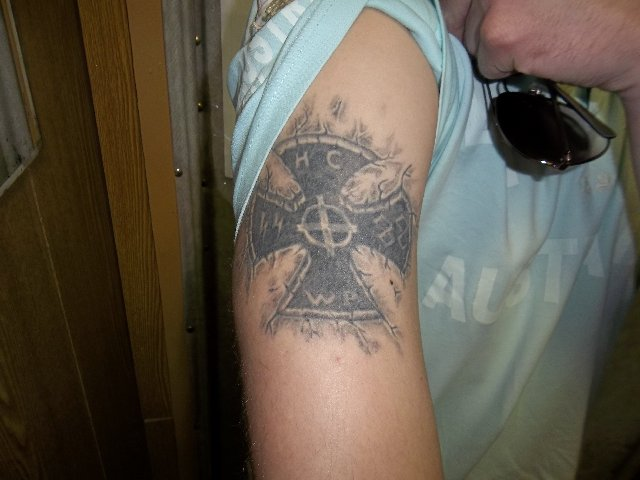tatu9_krest: (238, 121, 421, 343)
